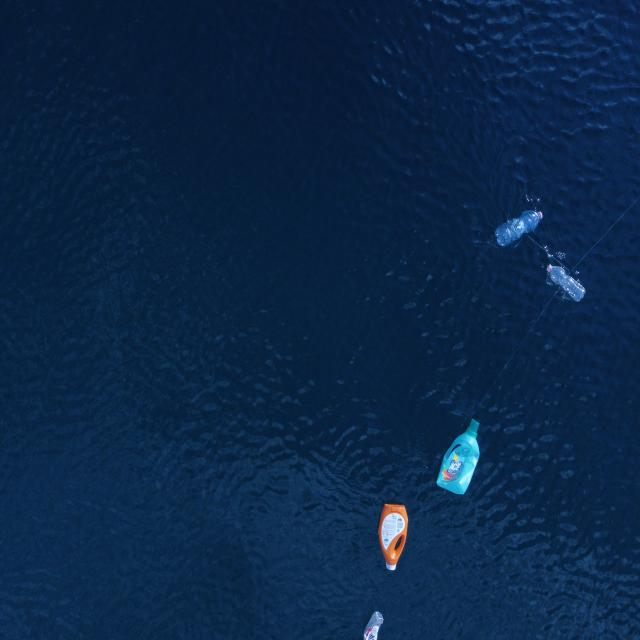bottles: (436, 417, 482, 497), (378, 501, 410, 572), (494, 209, 544, 249), (546, 262, 586, 303), (362, 609, 385, 640)
